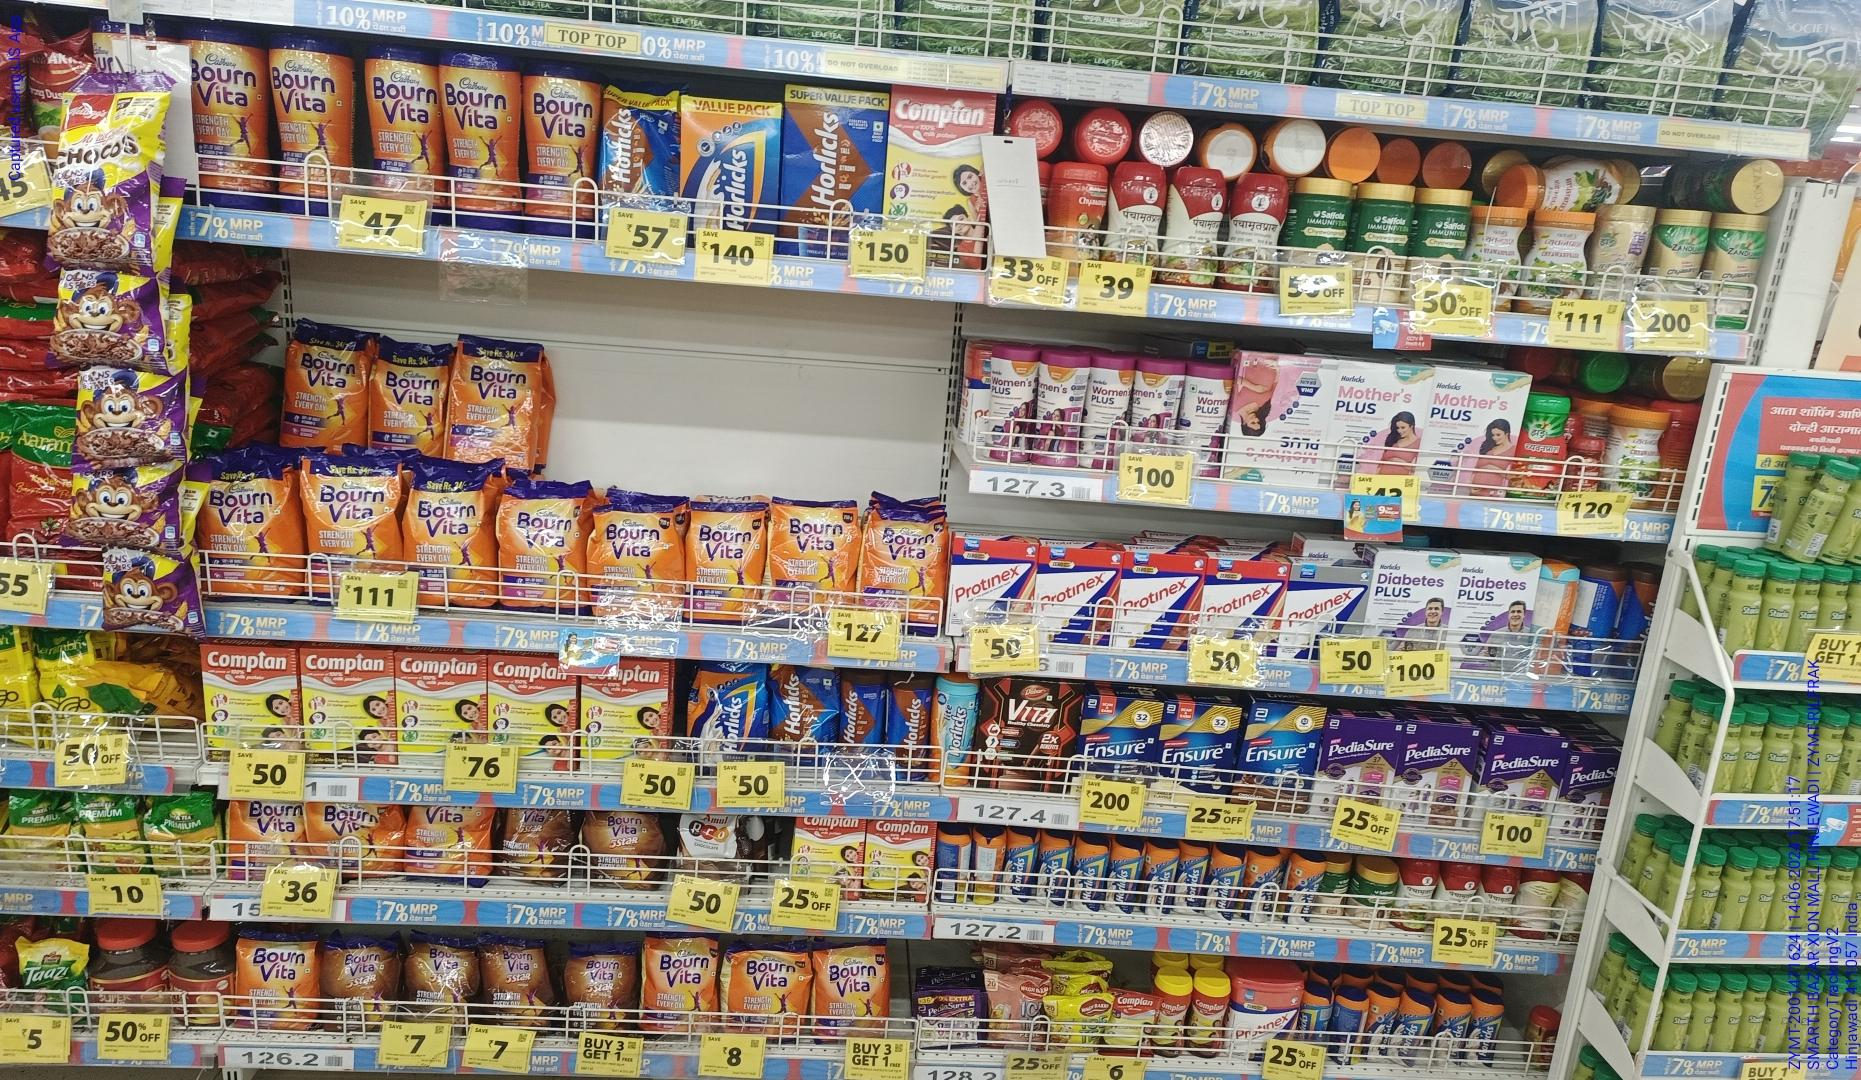BOURN_VITA_1_KG_JAR: (442, 44, 522, 230), (193, 23, 265, 207), (274, 30, 341, 217), (365, 39, 437, 212), (526, 64, 598, 234)
BOURN_VITA_500_G_POUCH: (208, 465, 297, 599), (451, 337, 535, 469), (406, 472, 487, 606), (305, 459, 400, 572), (283, 327, 361, 445), (371, 337, 442, 456)
BOURN_VITA_750_G_POUCH: (765, 499, 861, 630), (499, 485, 586, 609), (866, 504, 946, 635), (591, 503, 682, 607), (688, 499, 760, 626)
COMPLAN_CHOCOLATE_500_GMS_PACK: (888, 86, 988, 269)
HORLICK_CHOCOLATE_500_G_PACK: (783, 85, 884, 256)
HORLICK_CLASSIC_MALT_500_G_PACK: (680, 96, 779, 229)
